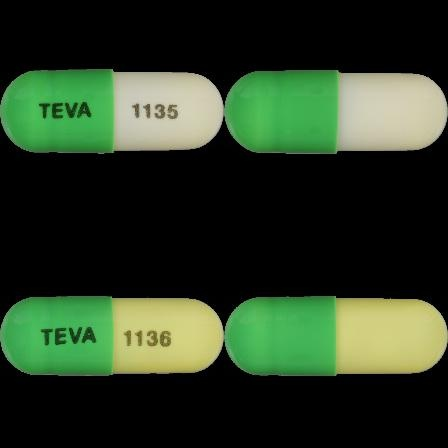0093-1135: (0, 0, 224, 224)
